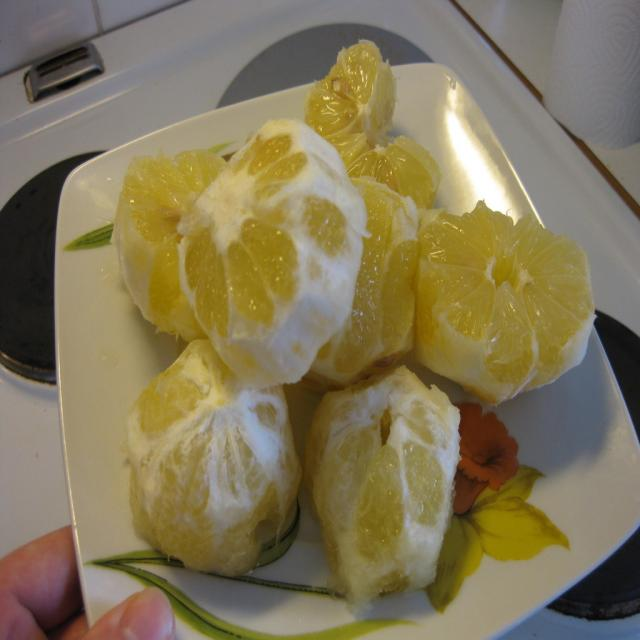Lemon: (112, 38, 600, 602)
